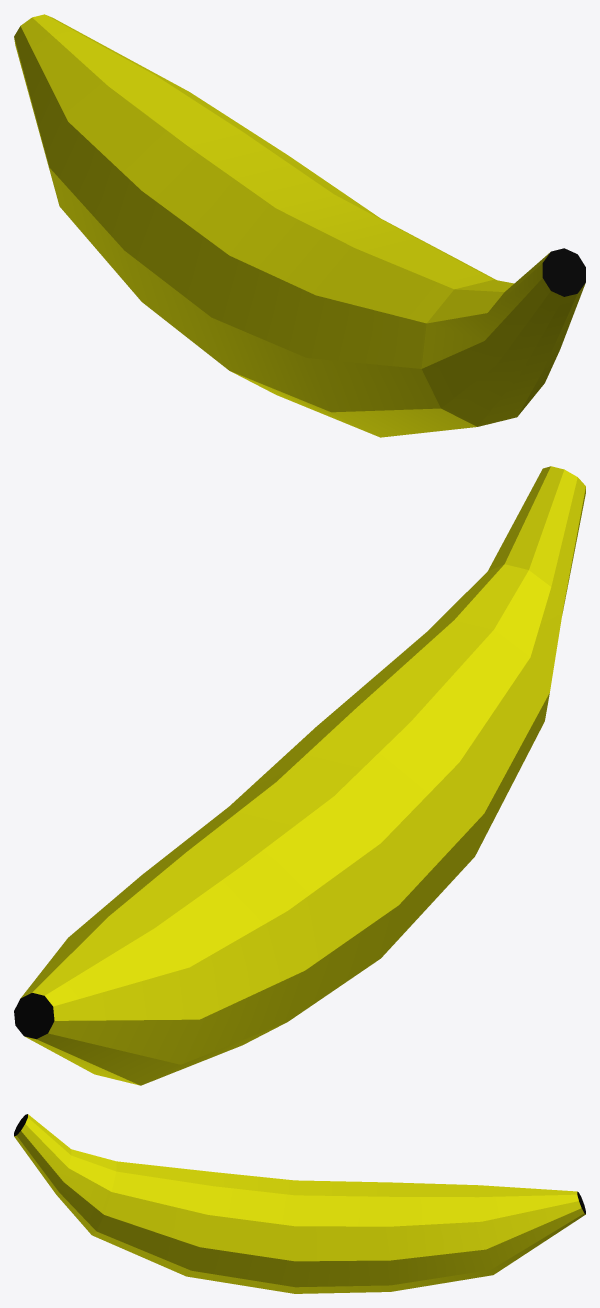
The model's file is banana.fbx.
3 views of the same model, one above another, from view 1: azimuth 30°, elevation 25°; view 2: azimuth 150°, elevation 25°; view 3: azimuth 270°, elevation 25° (orthographic). The views are drawn at different scales.
Visible parts, largest first — view 1: banana; view 2: banana; view 3: banana.
Part boxes in pixels (x1,y1,x2,y2): banana: (14, 14, 585, 437); banana: (14, 466, 585, 1085); banana: (14, 1114, 585, 1293).
Size of the model in its own units: 43.07 by 70.94 by 215.
